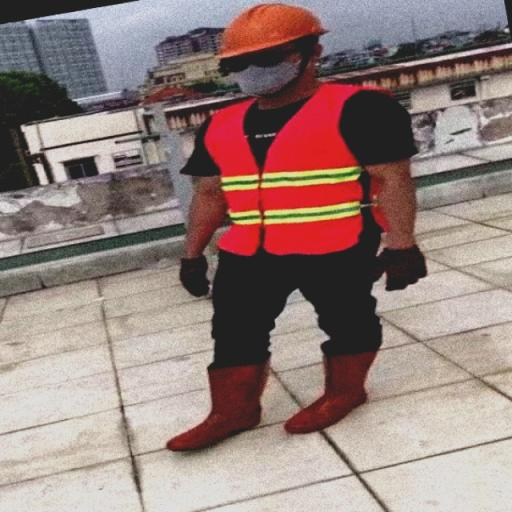Person: (120, 0, 433, 474)
boots: (166, 352, 276, 456), (282, 347, 380, 438)
gloves: (370, 246, 434, 288), (176, 248, 214, 295)
goggles: (214, 44, 312, 77)
helmet: (209, 2, 346, 68)
vest: (194, 86, 392, 253)
